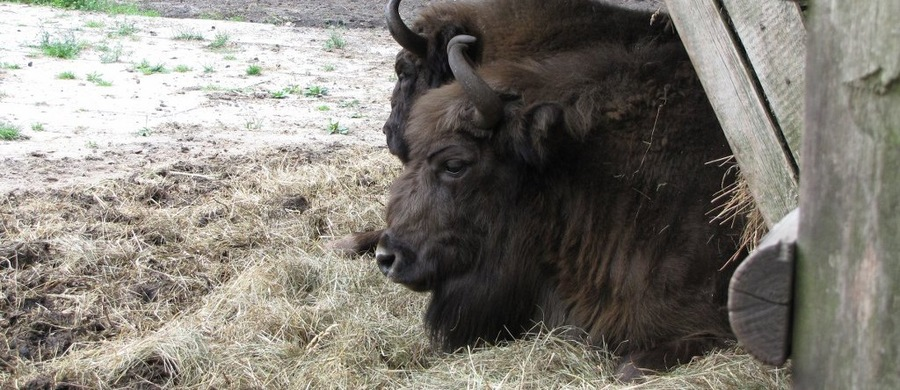zubr: (373, 28, 778, 362)
